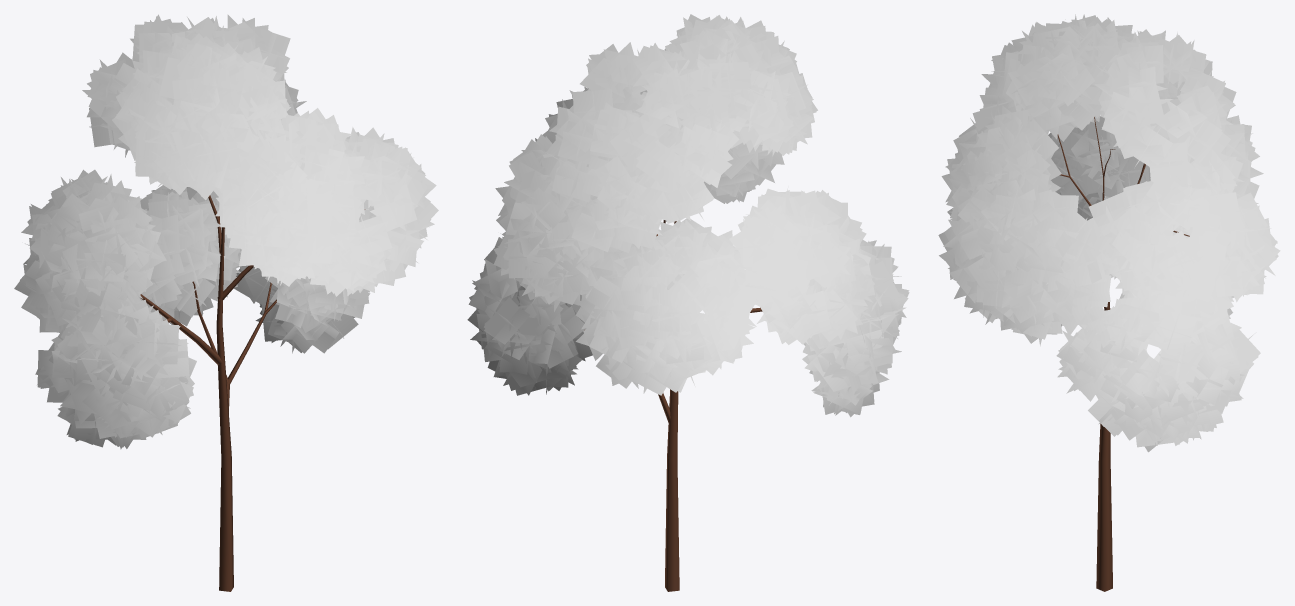
The model's file is T1Tree1.fbx.
3 views of the same model, side by side, from view 1: azimuth 30°, elevation 25°; view 2: azimuth 150°, elevation 25°; view 3: azimuth 270°, elevation 25° (orthographic). The views are drawn at different scales.
Visible parts, largest first — view 1: Leaves_1.1B, Leaves_1.1A, Bark_1.1; view 2: Leaves_1.1A, Leaves_1.1B, Bark_1.1; view 3: Leaves_1.1B, Leaves_1.1A, Bark_1.1.
Part boxes in pixels (x1,y1,x2,y2): Leaves_1.1B: (20, 14, 438, 447); Leaves_1.1A: (14, 14, 434, 449); Bark_1.1: (140, 195, 365, 591); Leaves_1.1A: (467, 15, 909, 414); Leaves_1.1B: (468, 14, 909, 417); Bark_1.1: (584, 220, 762, 591); Leaves_1.1B: (938, 15, 1277, 452); Leaves_1.1A: (939, 14, 1280, 445); Bark_1.1: (1057, 117, 1189, 591).
Bounding box in the file's own units: 4.91 × 7.31 × 4.1.
